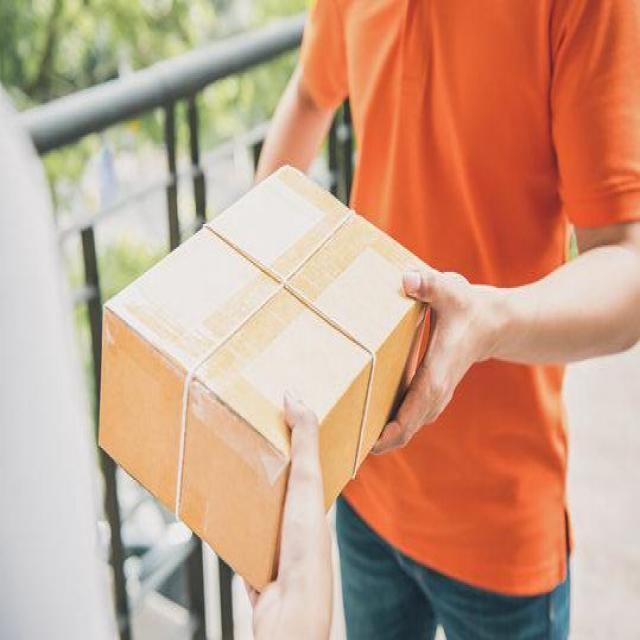box: (98, 154, 443, 592)
